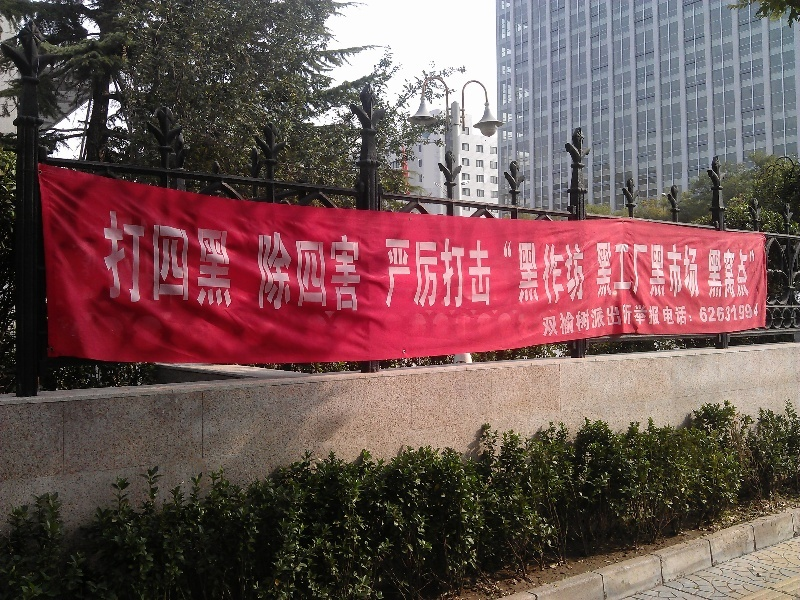text: (113, 208, 128, 309), (129, 208, 144, 309), (145, 208, 160, 309), (161, 208, 176, 309), (177, 208, 192, 309), (193, 208, 208, 309), (209, 208, 224, 309), (273, 232, 288, 313), (289, 232, 304, 313), (305, 232, 320, 313), (321, 232, 336, 313), (337, 232, 352, 313), (258, 232, 272, 313), (225, 208, 236, 309), (385, 238, 400, 310), (401, 238, 416, 310), (417, 238, 432, 310), (433, 238, 448, 310), (449, 238, 464, 310), (465, 238, 480, 310), (513, 239, 528, 305), (529, 239, 544, 305), (545, 239, 560, 305), (561, 239, 576, 305), (481, 238, 494, 310), (609, 241, 624, 300), (625, 241, 640, 300), (657, 243, 672, 299), (673, 243, 688, 299), (594, 241, 608, 300), (104, 208, 112, 309), (721, 248, 736, 299), (737, 248, 752, 299), (689, 243, 702, 299), (707, 248, 720, 299), (577, 239, 587, 305), (353, 232, 361, 313), (503, 239, 512, 305), (545, 299, 560, 338), (561, 299, 576, 338), (577, 299, 592, 338), (593, 299, 608, 338), (609, 299, 624, 338), (625, 299, 640, 338), (641, 299, 656, 338), (657, 299, 672, 338), (673, 299, 688, 338), (689, 299, 704, 338), (705, 299, 720, 338), (721, 299, 736, 338), (737, 299, 752, 338), (641, 241, 649, 300), (650, 243, 656, 299), (753, 299, 761, 338), (540, 299, 544, 338), (753, 248, 756, 299)
